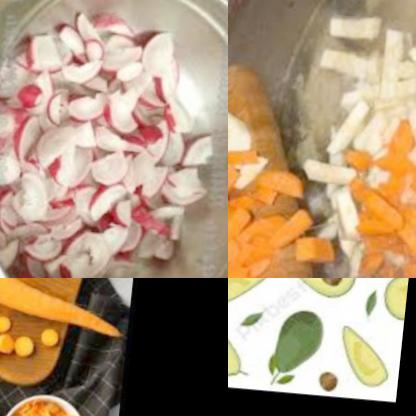avocado: (266, 298, 336, 384), (333, 317, 404, 389), (382, 278, 414, 335), (228, 329, 258, 382), (228, 278, 274, 312), (288, 278, 365, 296)
carrot: (228, 89, 310, 278), (348, 141, 416, 276), (0, 278, 127, 336), (5, 388, 81, 416), (0, 309, 20, 355), (12, 324, 37, 351), (40, 319, 60, 344)
rediska: (0, 0, 228, 278)
